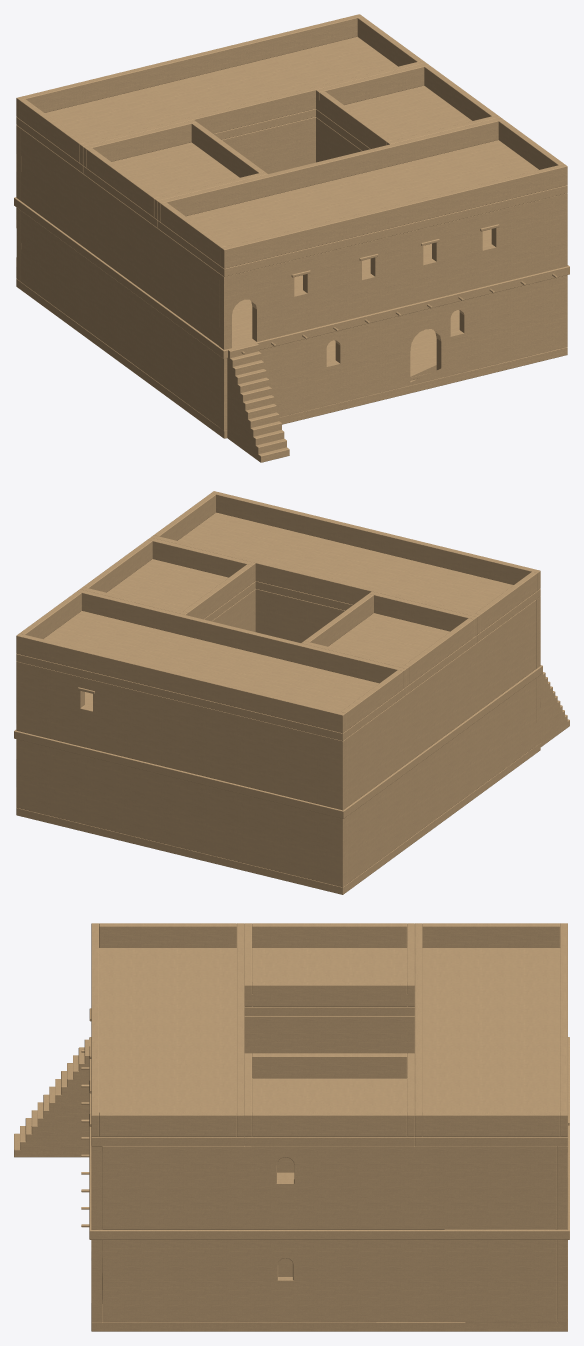
File: riad_12.glb
The picture shows the model from 3 angles, top to bottom: view 1: azimuth 30°, elevation 25°; view 2: azimuth 150°, elevation 25°; view 3: azimuth 270°, elevation 25°; orthographic projection. The views are drawn at different scales.
Parts seen in each view (by area): view 1: riad; view 2: riad; view 3: riad.
Boxes of the visible parts, bbox=[...] form: riad: bbox=[14, 14, 569, 462]; riad: bbox=[14, 491, 569, 894]; riad: bbox=[14, 923, 569, 1331].
Size of the model in its own units: 17.97 by 9.37 by 21.78.
1 material, 1 textured.
